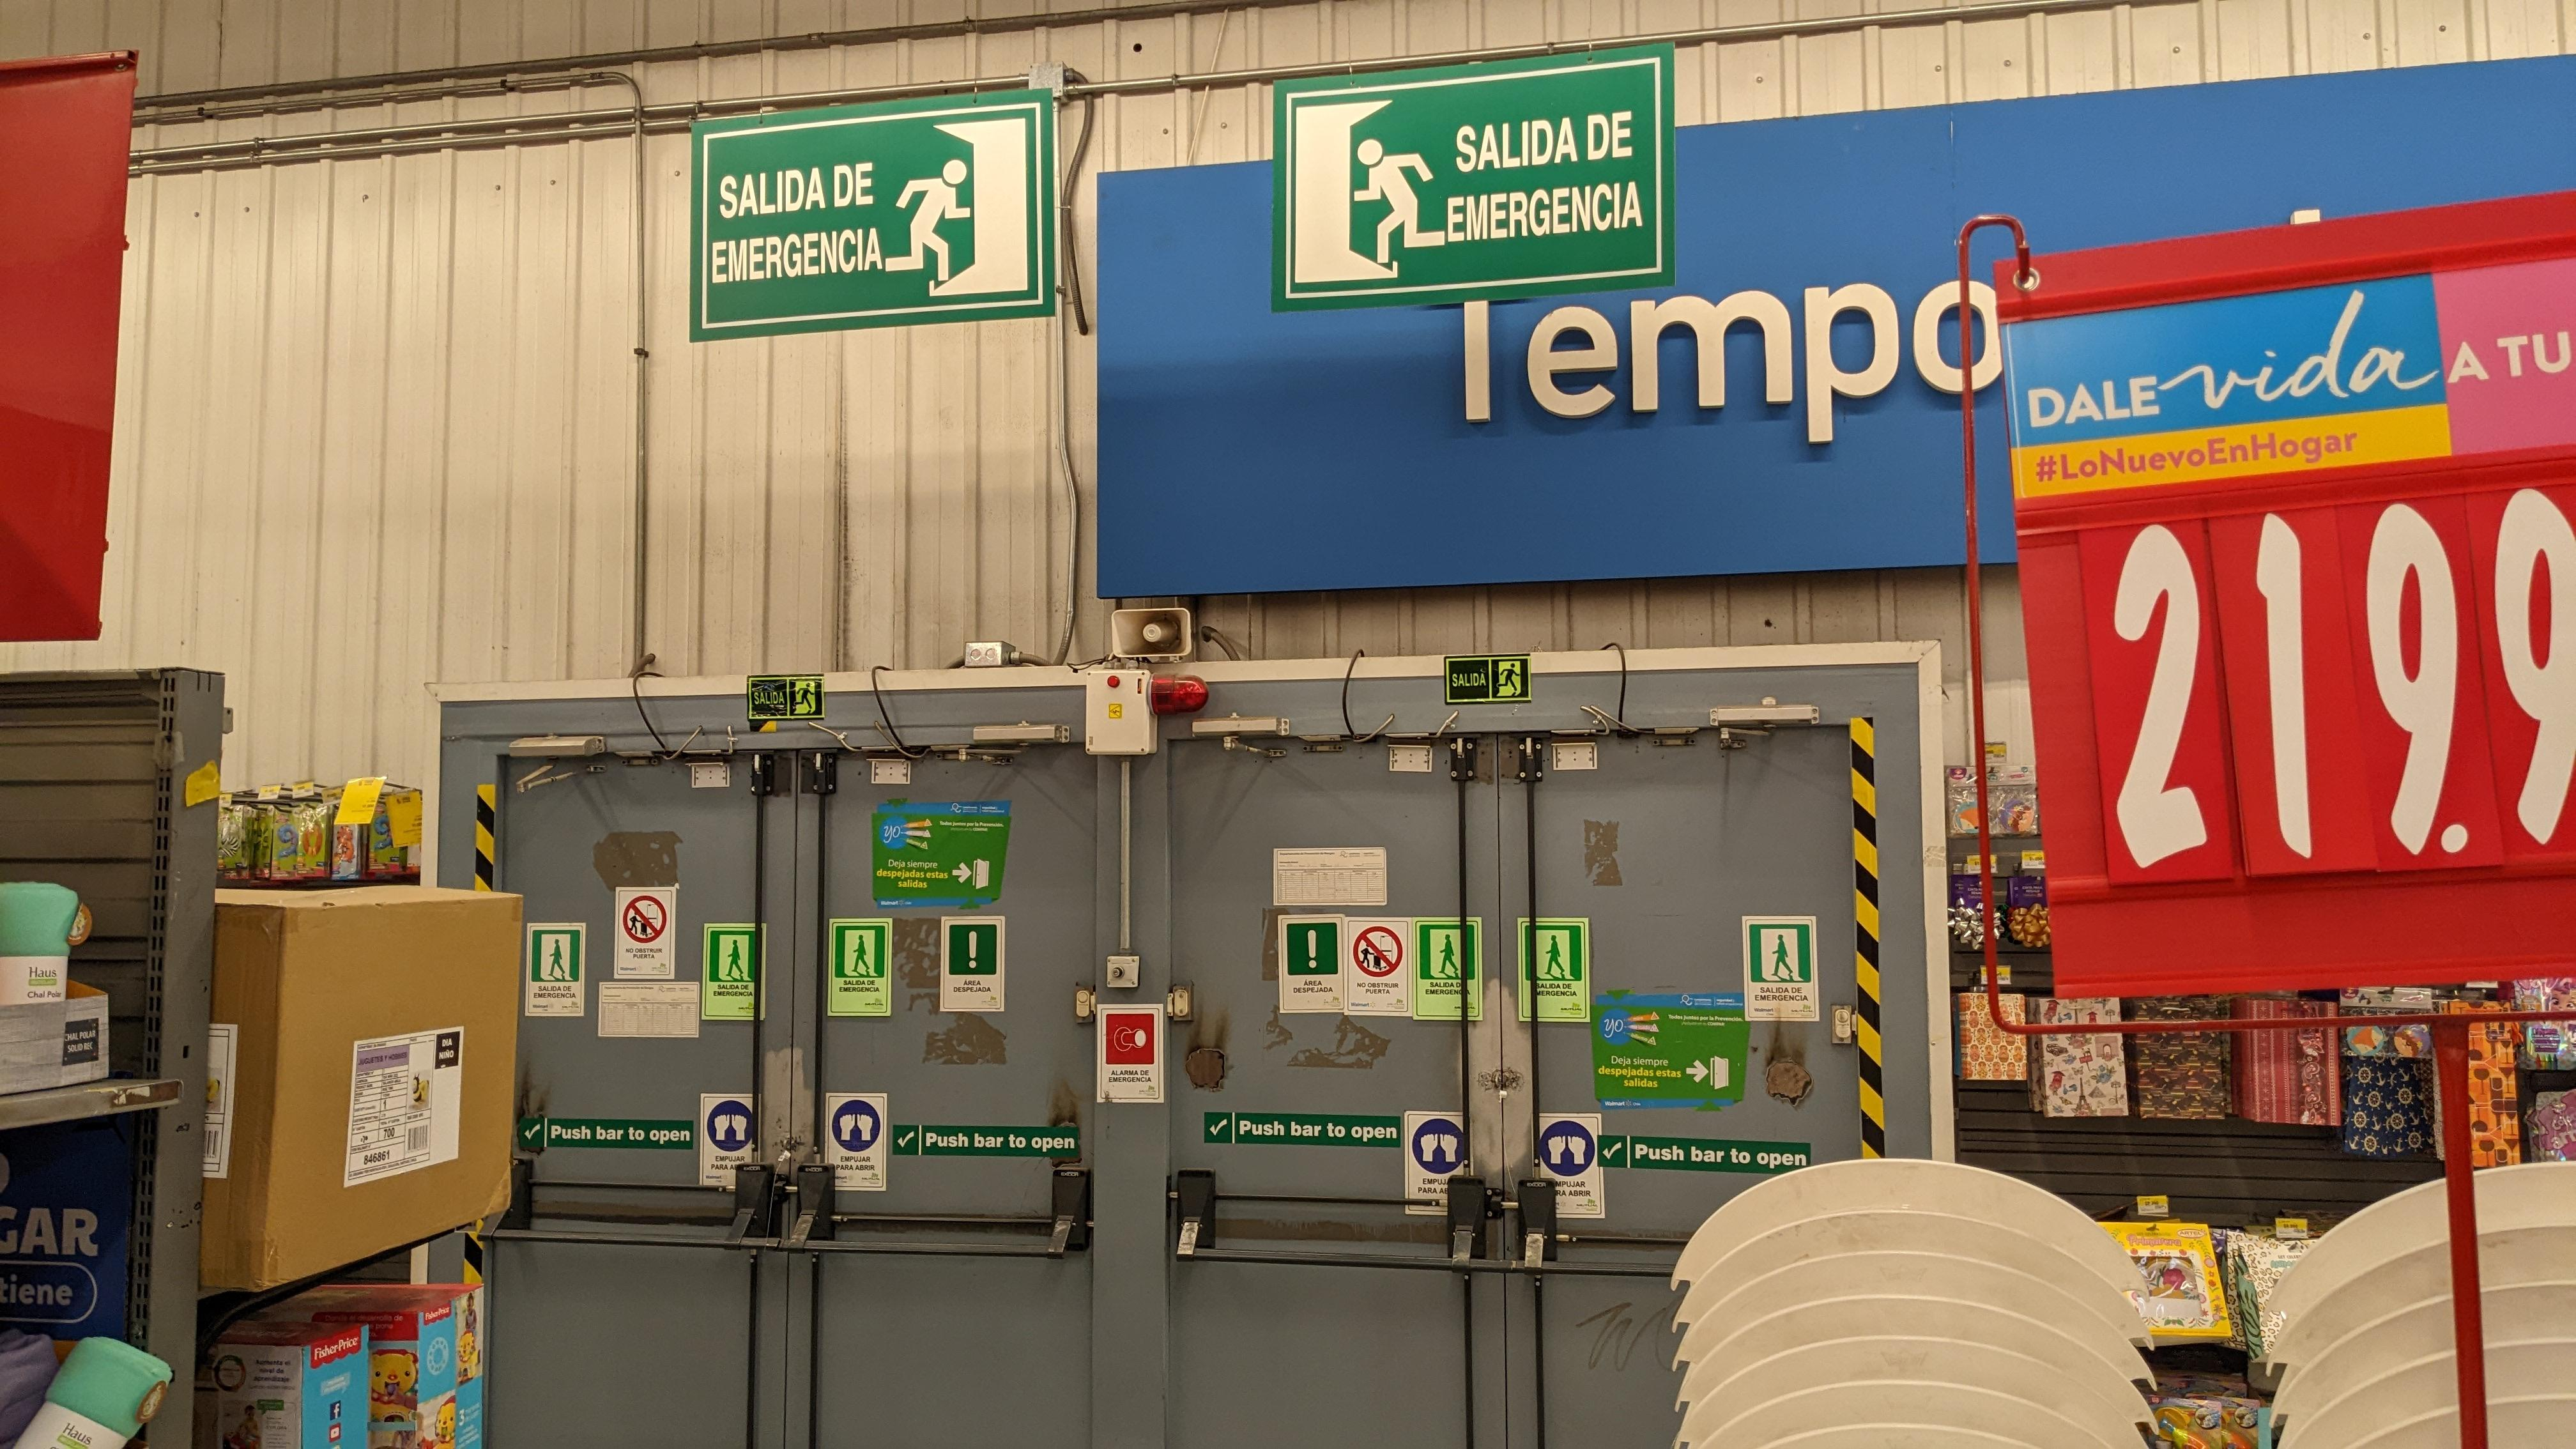emergency exit: (1353, 138, 1447, 264), (883, 156, 973, 281), (1495, 660, 1522, 697), (794, 679, 817, 715)
